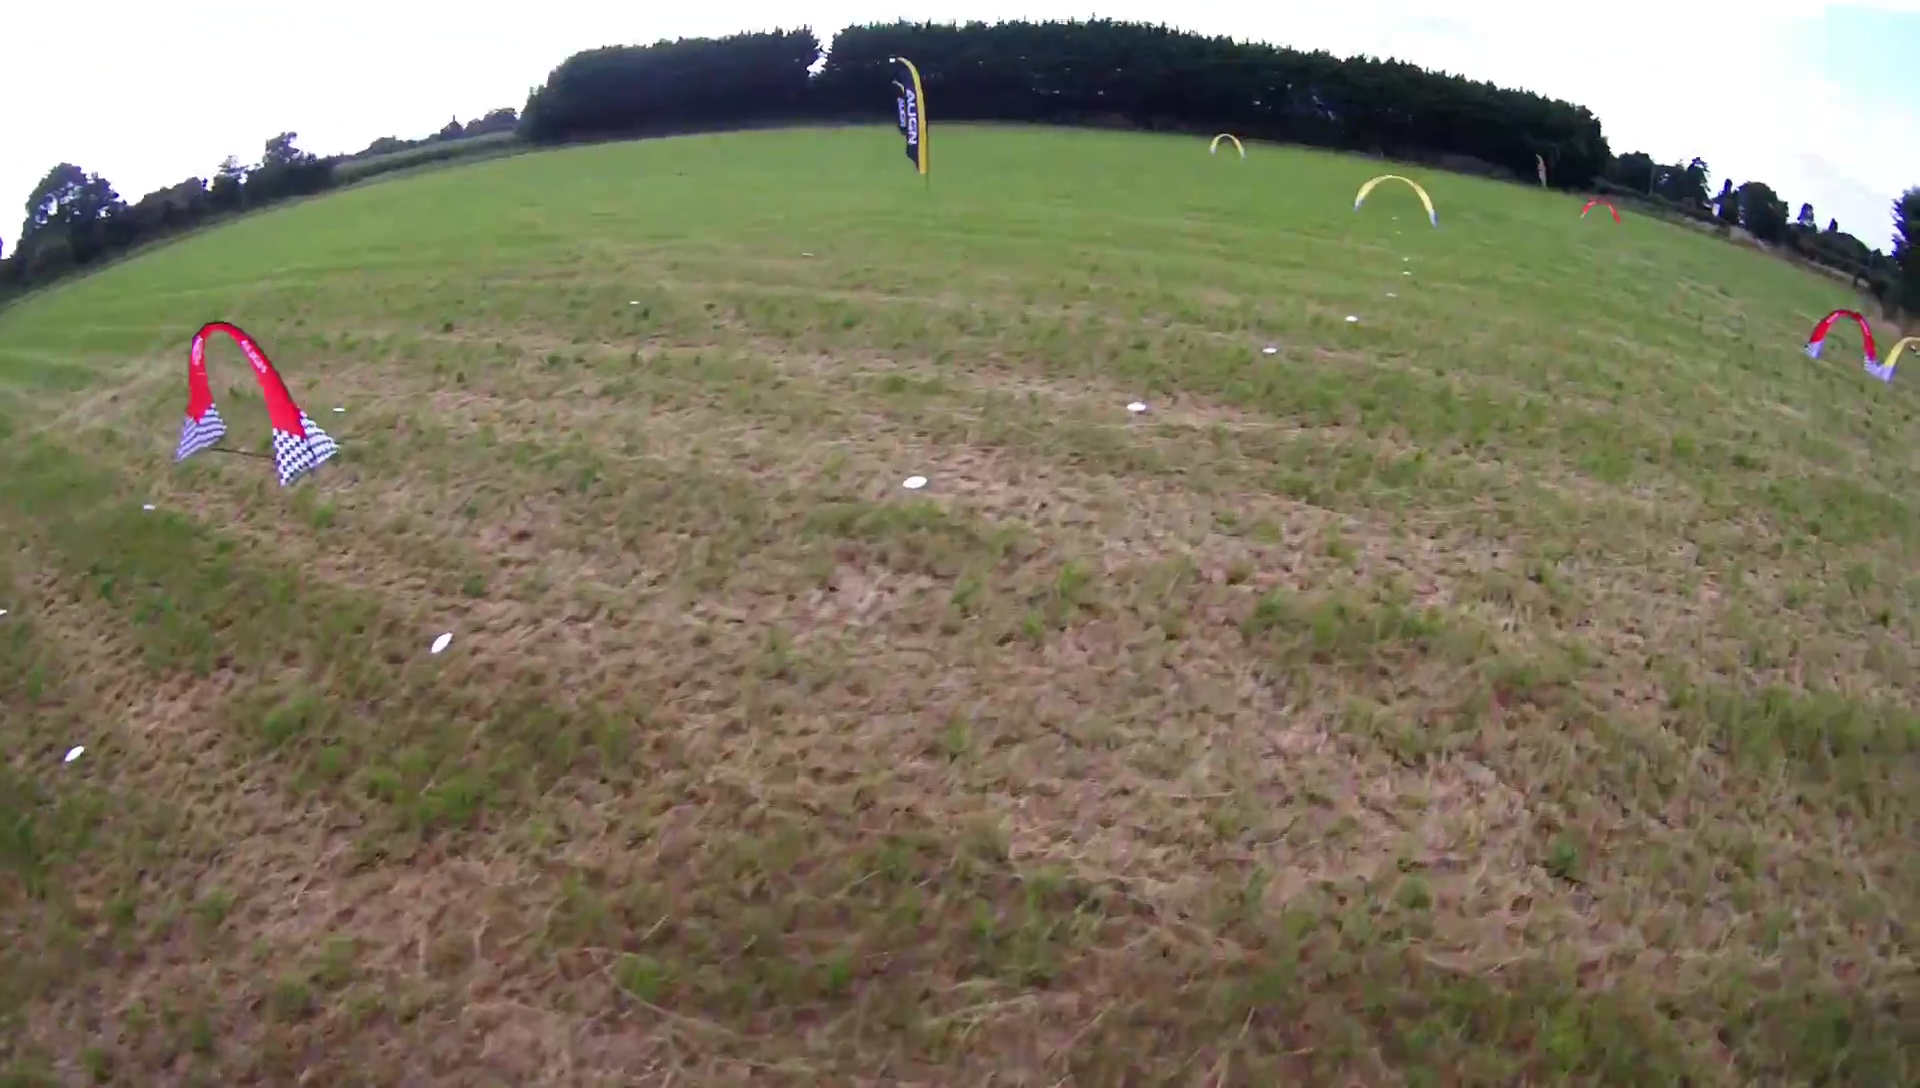gate: (174, 319, 344, 489), (1803, 306, 1879, 376), (1350, 171, 1439, 226), (1575, 194, 1625, 226), (1204, 132, 1250, 162)
